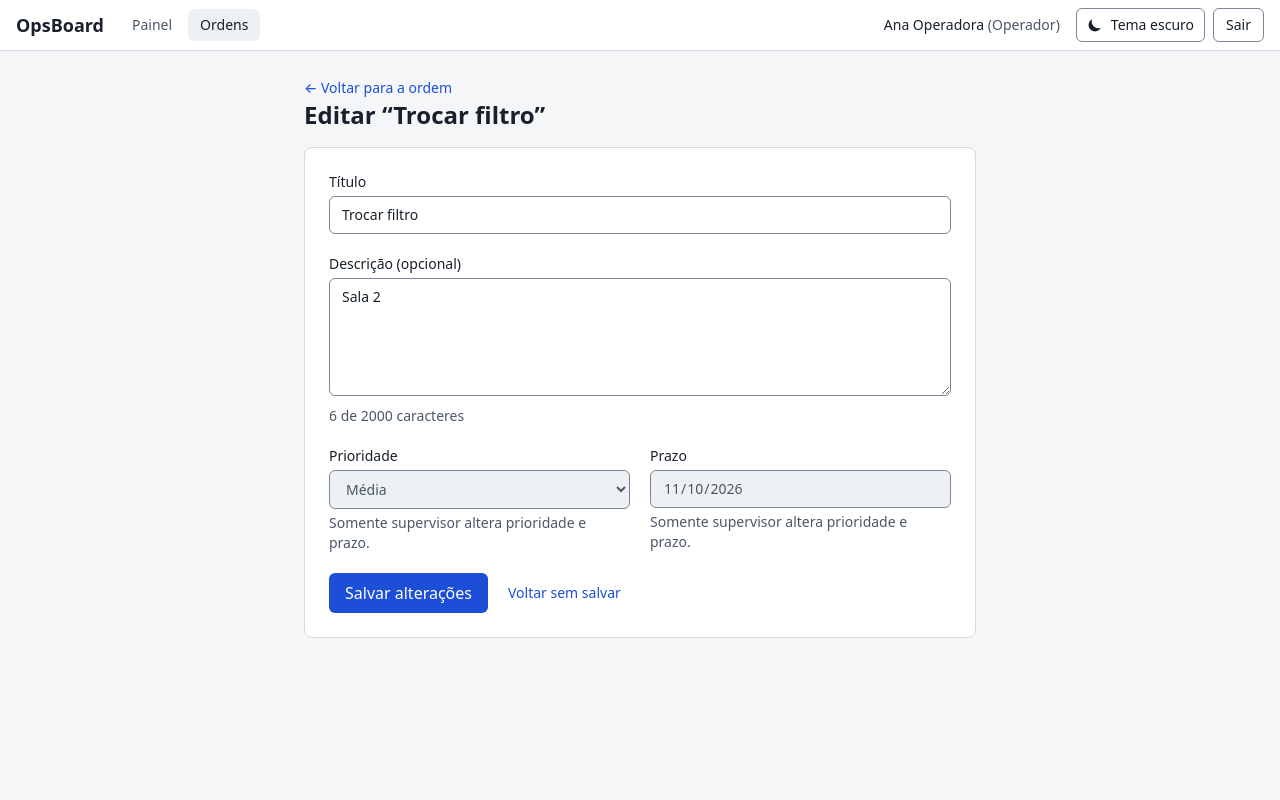
Test: Editar ordem (/orders/:id/edit) › operador: prioridade e prazo desabilitados com a explicação; envia só a descrição
The image size is (1280, 800).
Expected: the button "Salvar alterações" is shown, top-left (329, 573), bottom-right (488, 613)
Expected: the dropdown labelled "Prioridade" is disabled, top-left (329, 470), bottom-right (630, 509)
Clear the text box labelled "Descrição (opcional)" at point(640, 337), box top-left (329, 278), bottom-right (951, 396)
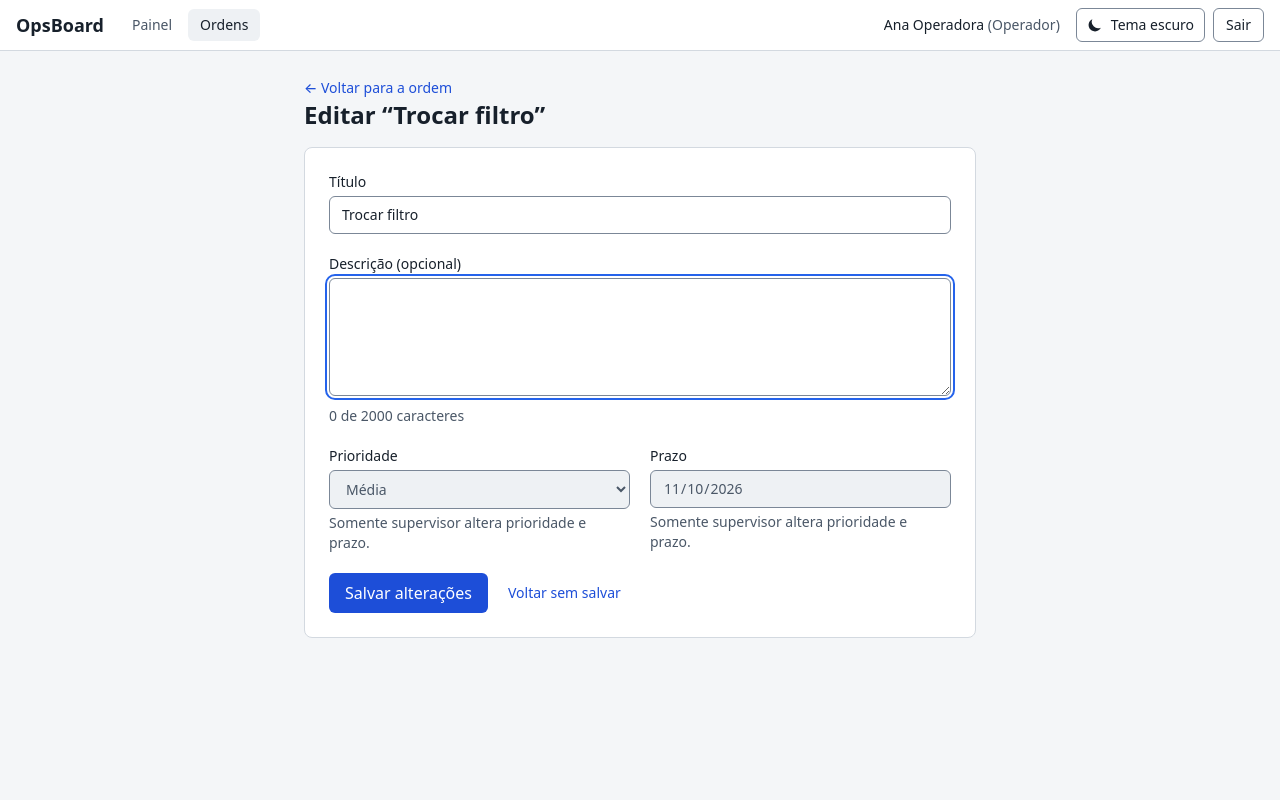
Click the button "Salvar alterações" at point(408, 593), box top-left (329, 573), bottom-right (488, 613)
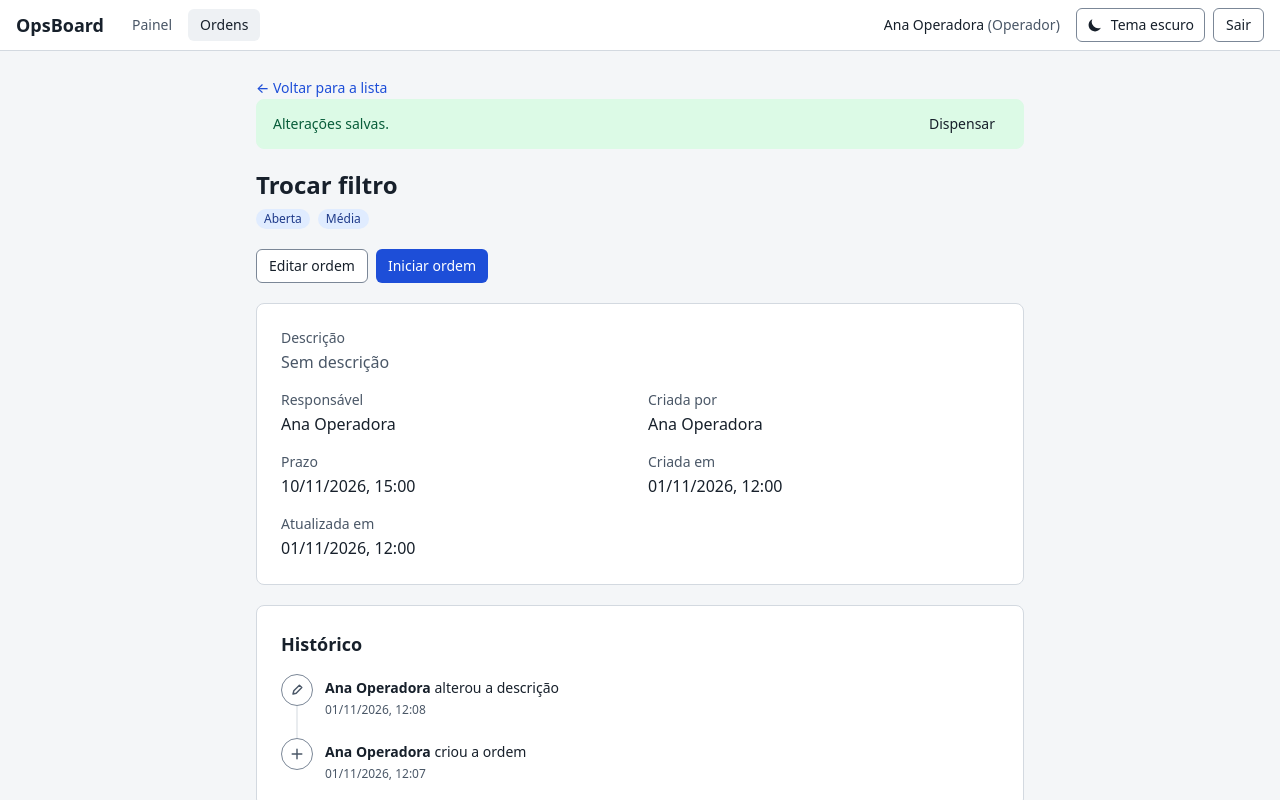
Result: the text "Alterações salvas." is shown at top-left (273, 114), bottom-right (389, 134)
